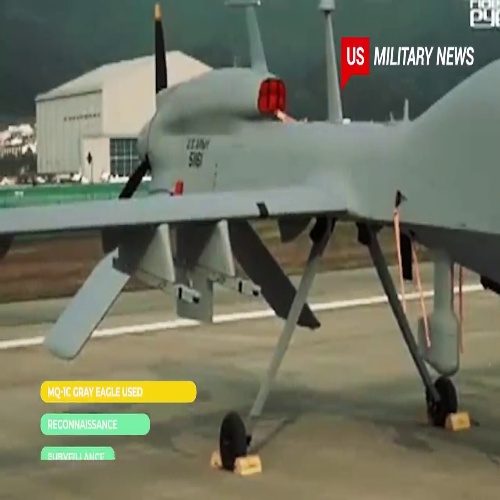uav127: (3, 53, 500, 443)
